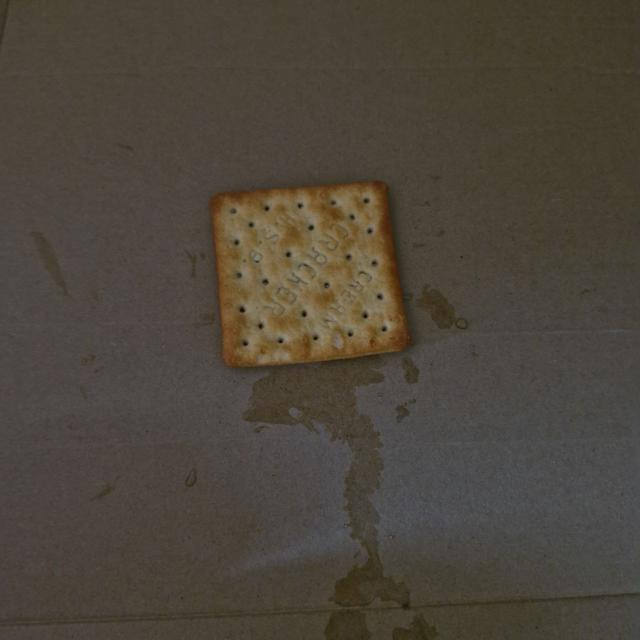food_waste: (203, 167, 413, 365)
